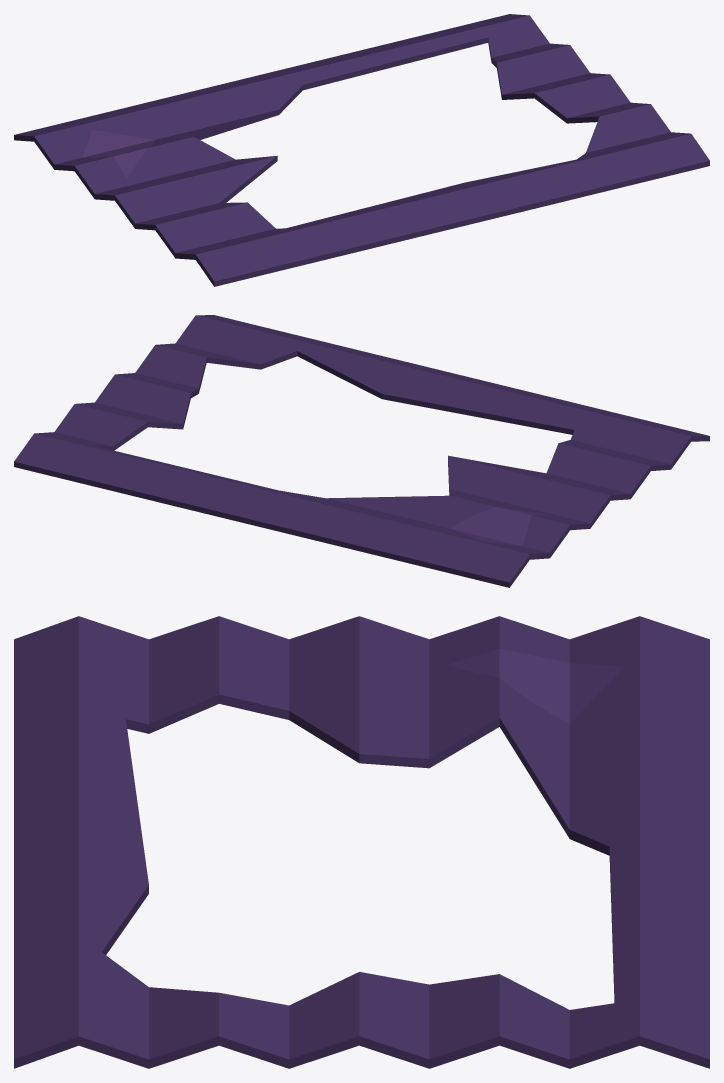
The model's file is SheetMetal_D_3.fbx.
The picture shows the model from 3 angles, top to bottom: view 1: azimuth 30°, elevation 25°; view 2: azimuth 150°, elevation 25°; view 3: azimuth 270°, elevation 25°; orthographic projection. The views are drawn at different scales.
Parts seen in each view (by area): view 1: SheetMetal_D_3; view 2: SheetMetal_D_3; view 3: SheetMetal_D_3.
Boxes of the visible parts, x1,y1,x2,y2 form: SheetMetal_D_3: (14,14,709,286); SheetMetal_D_3: (14,315,709,587); SheetMetal_D_3: (14,616,709,1068).
Bounding box in the file's own units: 137 × 4.96 × 96.03.
